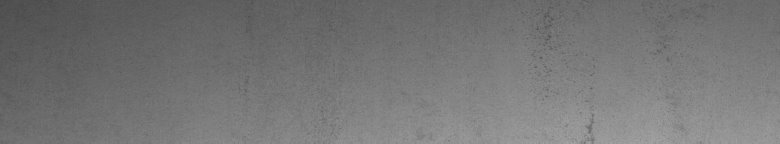ib: (532, 12, 661, 136)
